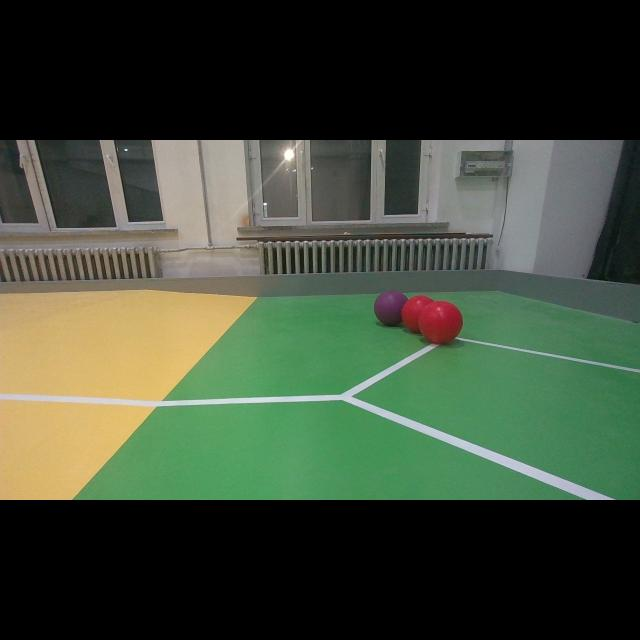P: (376, 290, 408, 326)
R: (418, 301, 462, 344), (403, 294, 437, 330)
